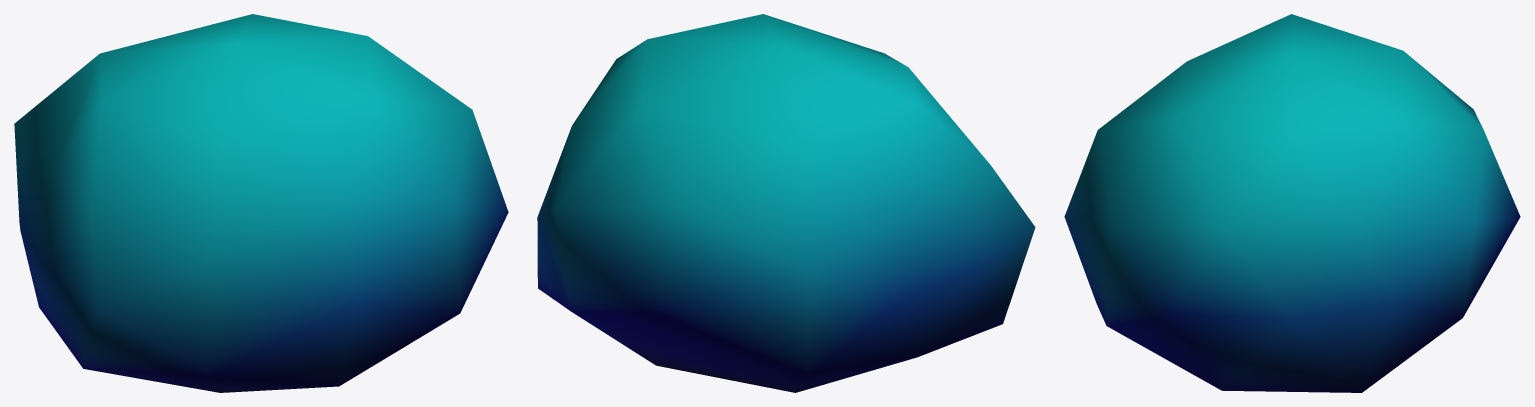
File: RockAngular_3_lod2.glb
3 views of the same model, side by side, from view 1: azimuth 30°, elevation 25°; view 2: azimuth 150°, elevation 25°; view 3: azimuth 270°, elevation 25° (orthographic). The views are drawn at different scales.
Parts seen in each view (by area): view 1: RockAngular_3_lod2; view 2: RockAngular_3_lod2; view 3: RockAngular_3_lod2.
Boxes of the visible parts, bbox=[...] form: RockAngular_3_lod2: bbox=[14, 14, 508, 392]; RockAngular_3_lod2: bbox=[537, 14, 1035, 392]; RockAngular_3_lod2: bbox=[1064, 14, 1520, 392].
Bounding box in the file's own units: 2 × 1.36 × 2.01.
